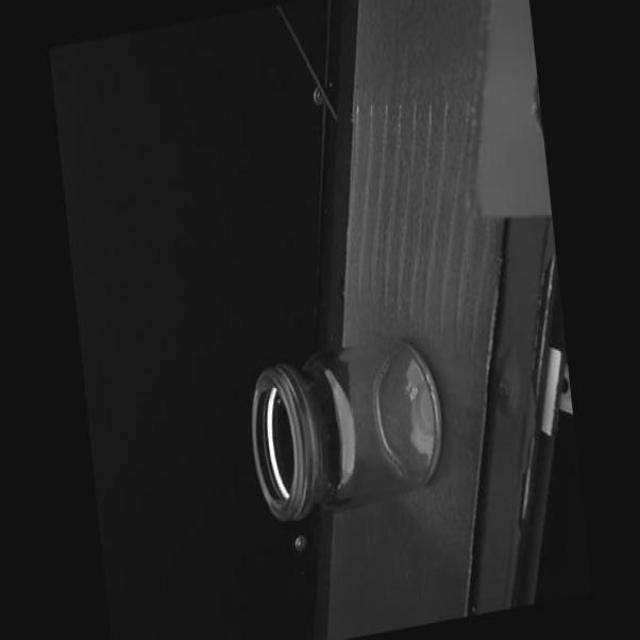defect: (334, 481, 342, 490)
glass: (240, 326, 450, 528)
